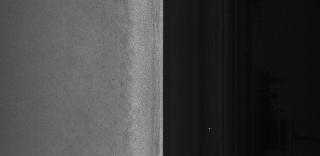silk spot: (110, 67, 136, 109)
